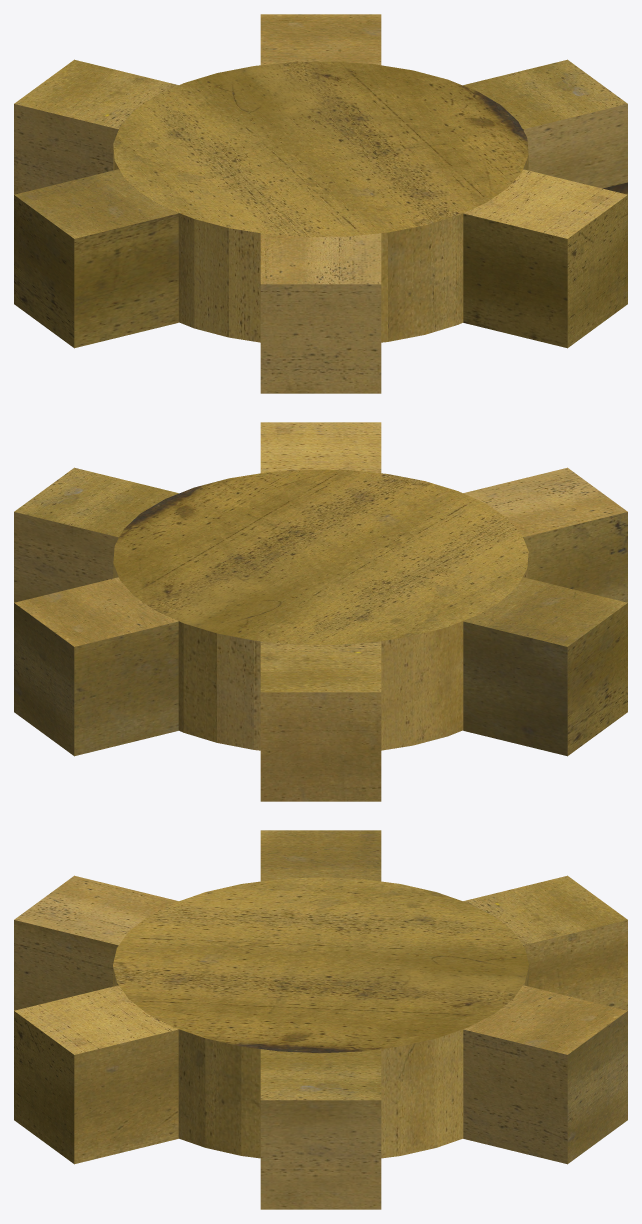
Rendered from gear6.obj.
3 renders of one model, top to bottom at view 1: azimuth 30°, elevation 25°; view 2: azimuth 150°, elevation 25°; view 3: azimuth 270°, elevation 25°, orthographic.
Parts seen in each view (by area): view 1: Cube.005_Cube.006; view 2: Cube.005_Cube.006; view 3: Cube.005_Cube.006.
Part boxes in pixels (x1,y1,x2,y2): Cube.005_Cube.006: (14,14,627,393); Cube.005_Cube.006: (14,422,627,801); Cube.005_Cube.006: (14,830,627,1209).
Size of the model in its own units: 0.6025 by 0.1138 by 0.5786.
